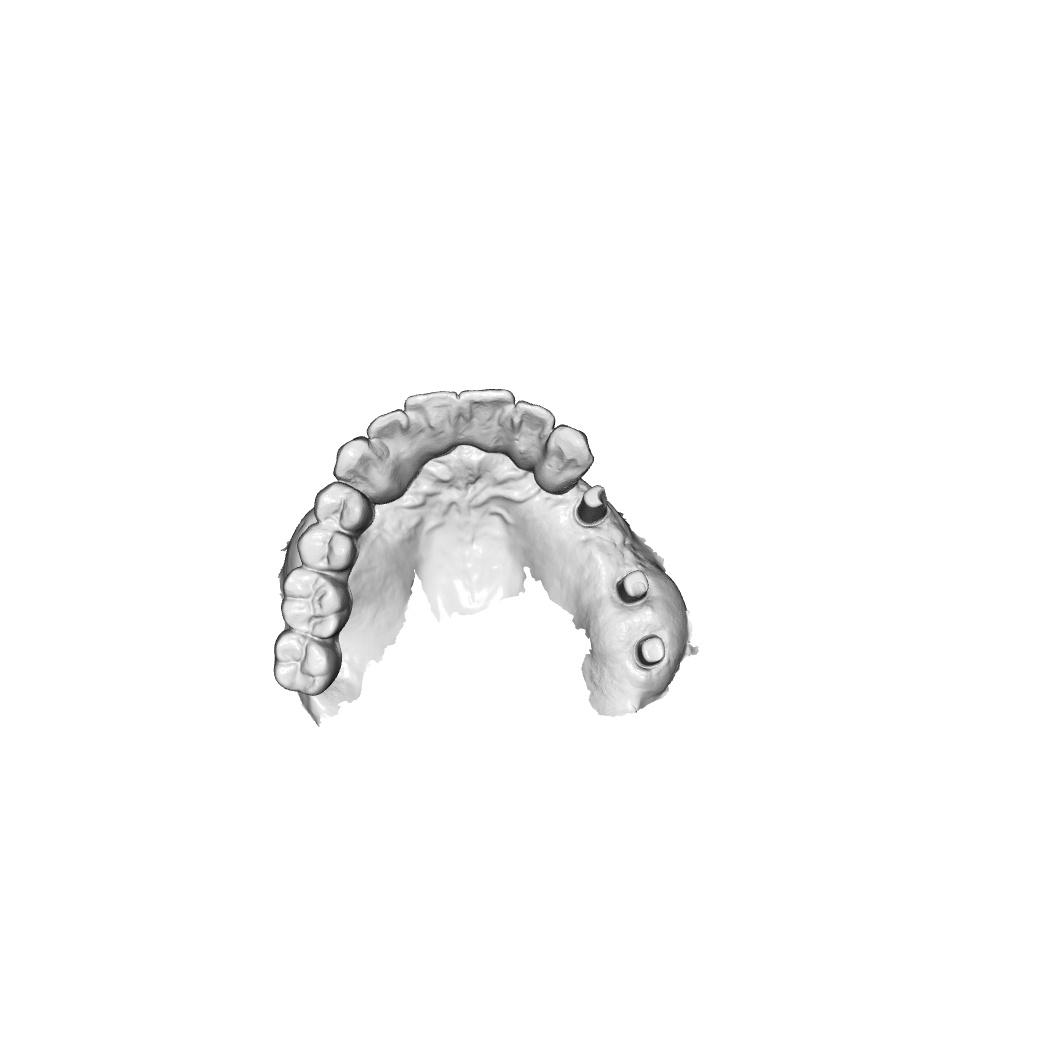abutment: (574, 483, 612, 528), (615, 569, 651, 606), (635, 633, 668, 669)
canine: (536, 423, 596, 495), (332, 435, 384, 488)
incisor: (457, 387, 517, 456), (403, 390, 463, 453), (512, 399, 557, 470), (365, 407, 411, 470)
molar: (279, 564, 353, 641), (272, 628, 343, 698)
premolar: (312, 481, 375, 534), (295, 523, 358, 574)
